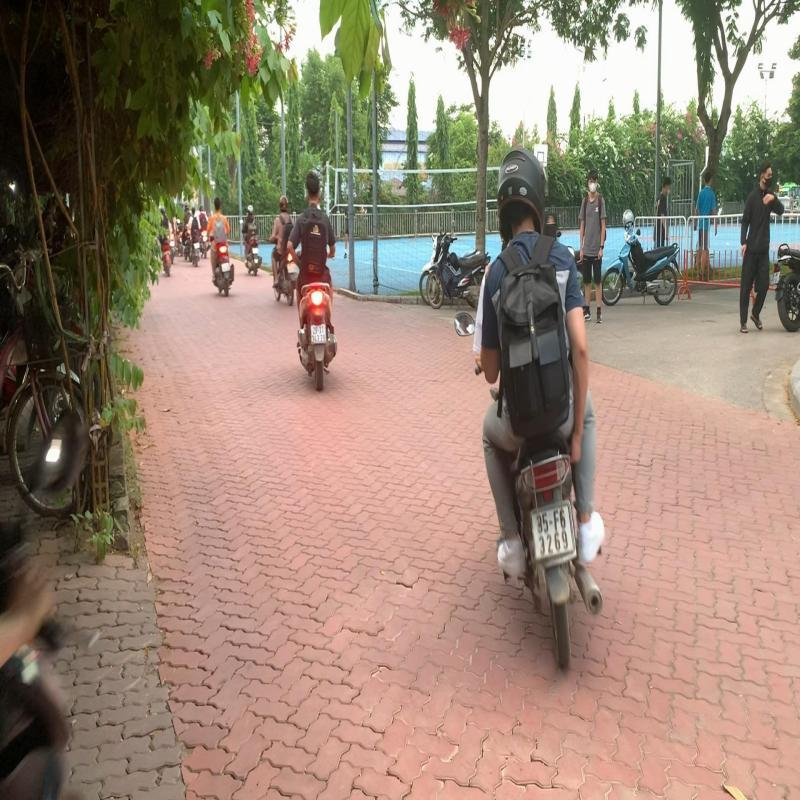nohelmet: (305, 170, 322, 206)
